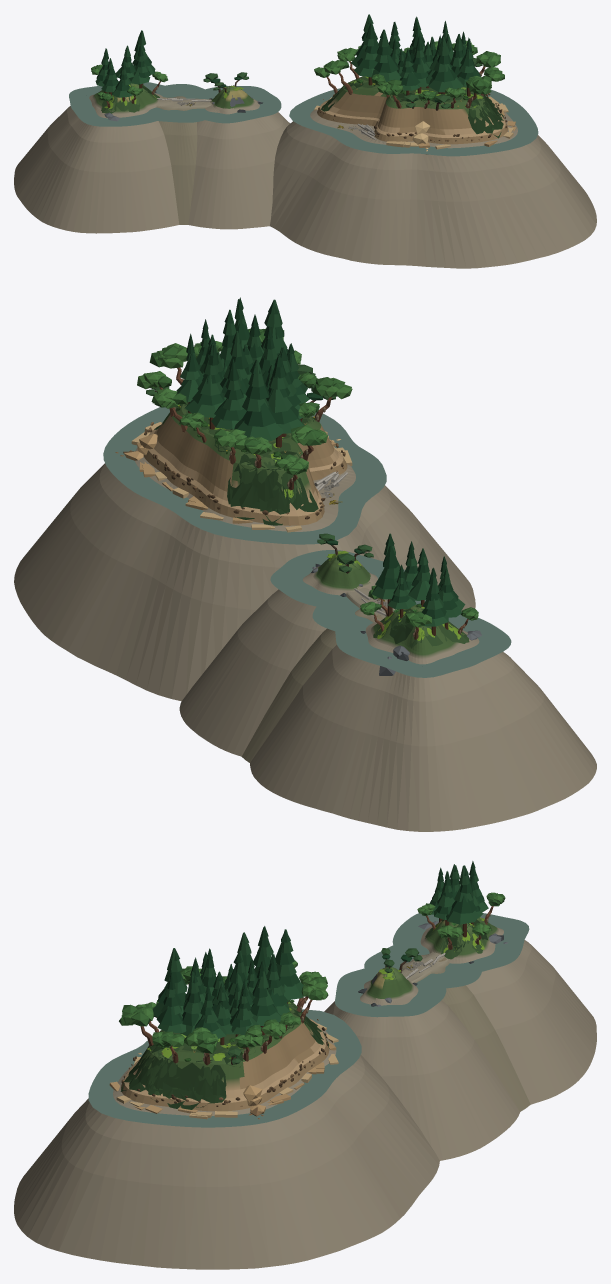
Rendered from chunk_1_-1.glb.
3 views of the same model, one above another, from view 1: azimuth 30°, elevation 25°; view 2: azimuth 150°, elevation 25°; view 3: azimuth 270°, elevation 25° (orthographic). The views are drawn at different scales.
Parts seen in each view (by area): view 1: chunk_1_-1; view 2: chunk_1_-1; view 3: chunk_1_-1.
Part boxes in pixels (bbox=[...]): chunk_1_-1: bbox=[14, 14, 596, 268]; chunk_1_-1: bbox=[14, 297, 596, 831]; chunk_1_-1: bbox=[14, 861, 596, 1269].
Bounding box in the file's own units: 141 × 56.13 × 124.
